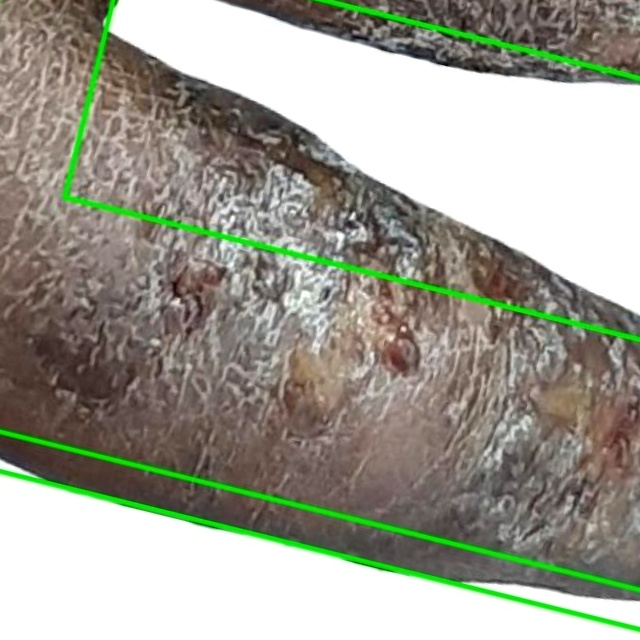Eczema: (0, 0, 639, 630), (62, 0, 639, 341)
